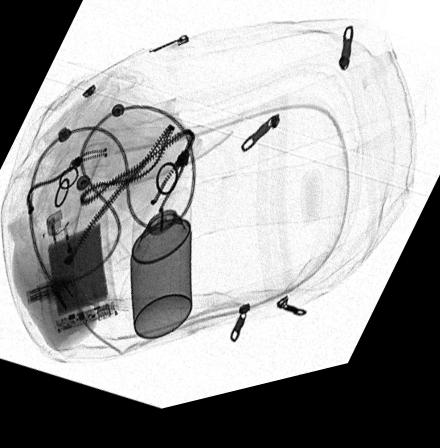Lighter: (38, 207, 78, 321)
Powerbank: (40, 208, 116, 336)
Sprayer: (129, 191, 192, 347)
